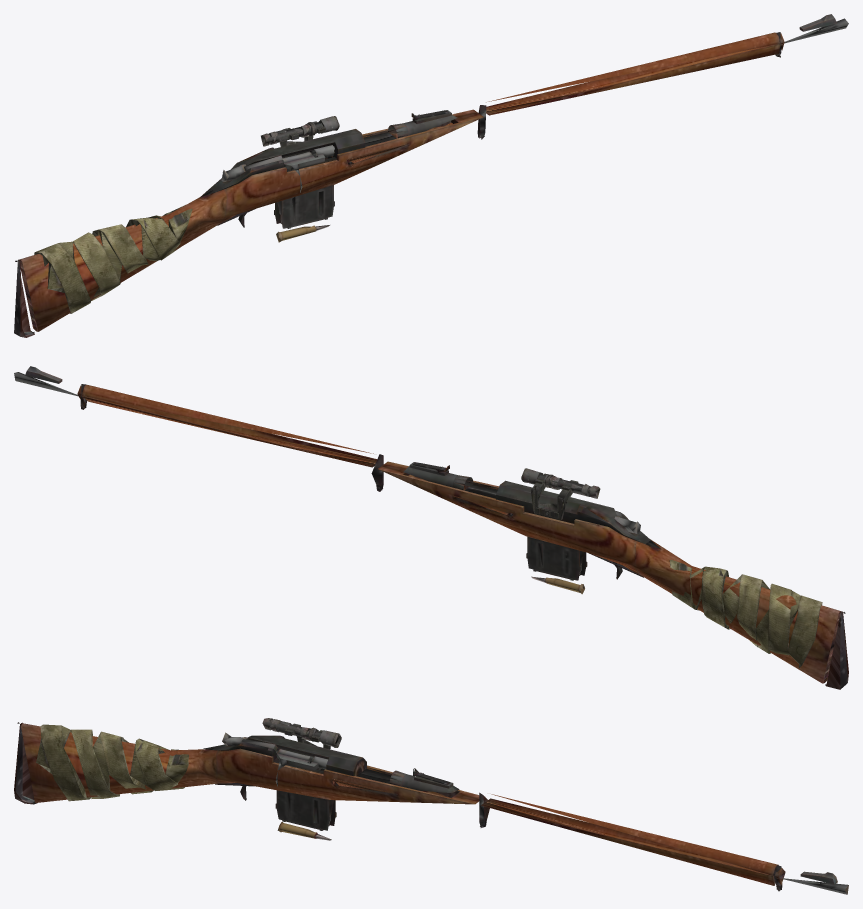
File: bolt_action_rifle_7_62_lod1.glb
The picture shows the model from 3 angles, top to bottom: view 1: azimuth 30°, elevation 25°; view 2: azimuth 150°, elevation 25°; view 3: azimuth 330°, elevation 25°; orthographic projection.
Parts seen in each view (by area): view 1: bolt_action_rifle_7_62, bolt_action_rifle_7_62_wrap, bolt_action_rifle_7_62_scope, bolt_action_rifle_7_62_bolt_a; view 2: bolt_action_rifle_7_62, bolt_action_rifle_7_62_wrap, bolt_action_rifle_7_62_scope; view 3: bolt_action_rifle_7_62, bolt_action_rifle_7_62_wrap, bolt_action_rifle_7_62_scope, bolt_action_rifle_7_62_bolt_a, bolt_action_rifle_7_62_bullet_54mm, bolt_action_rifle_7_62_bolt_b.
Part boxes in pixels (x1,y1,x2,y2): bolt_action_rifle_7_62: (14,14,848,337); bolt_action_rifle_7_62_wrap: (34,205,192,313); bolt_action_rifle_7_62_scope: (261,116,339,146); bolt_action_rifle_7_62_bolt_a: (282,145,334,192); bolt_action_rifle_7_62: (14,366,848,689); bolt_action_rifle_7_62_wrap: (669,559,822,667); bolt_action_rifle_7_62_scope: (521,468,600,520); bolt_action_rifle_7_62: (14,722,848,894); bolt_action_rifle_7_62_wrap: (36,724,188,801); bolt_action_rifle_7_62_scope: (262,718,341,749); bolt_action_rifle_7_62_bolt_a: (275,749,327,786); bolt_action_rifle_7_62_bullet_54mm: (277,822,331,840); bolt_action_rifle_7_62_bolt_b: (222,732,321,769).
Bounding box in the file's own units: 1.22 × 0.2026 × 0.0622.
3 materials, 3 textured.
